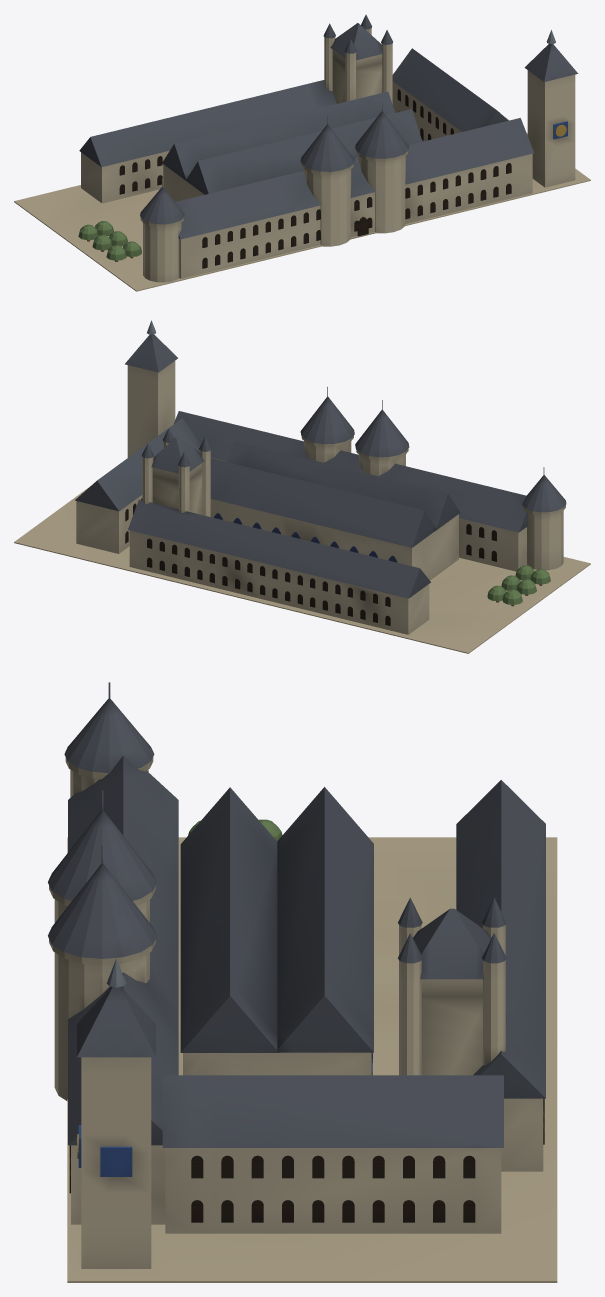
Rendered from palais-cite.glb.
The picture shows the model from 3 angles, top to bottom: view 1: azimuth 30°, elevation 25°; view 2: azimuth 150°, elevation 25°; view 3: azimuth 270°, elevation 25°; orthographic projection. The views are drawn at different scales.
Visible parts, largest first — view 1: p0_conciergerie, p1_great hall; view 2: p1_great hall, p0_conciergerie; view 3: p1_great hall, p0_conciergerie.
Part boxes in pixels (x1,y1,x2,y2): p0_conciergerie: (14,30,590,291); p1_great hall: (78,14,508,261); p1_great hall: (75,418,550,634); p0_conciergerie: (14,320,590,653); p1_great hall: (162,780,545,1233); p0_conciergerie: (48,682,557,1282).
Size of the model in its own units: 150 by 47.06 by 72.82.
